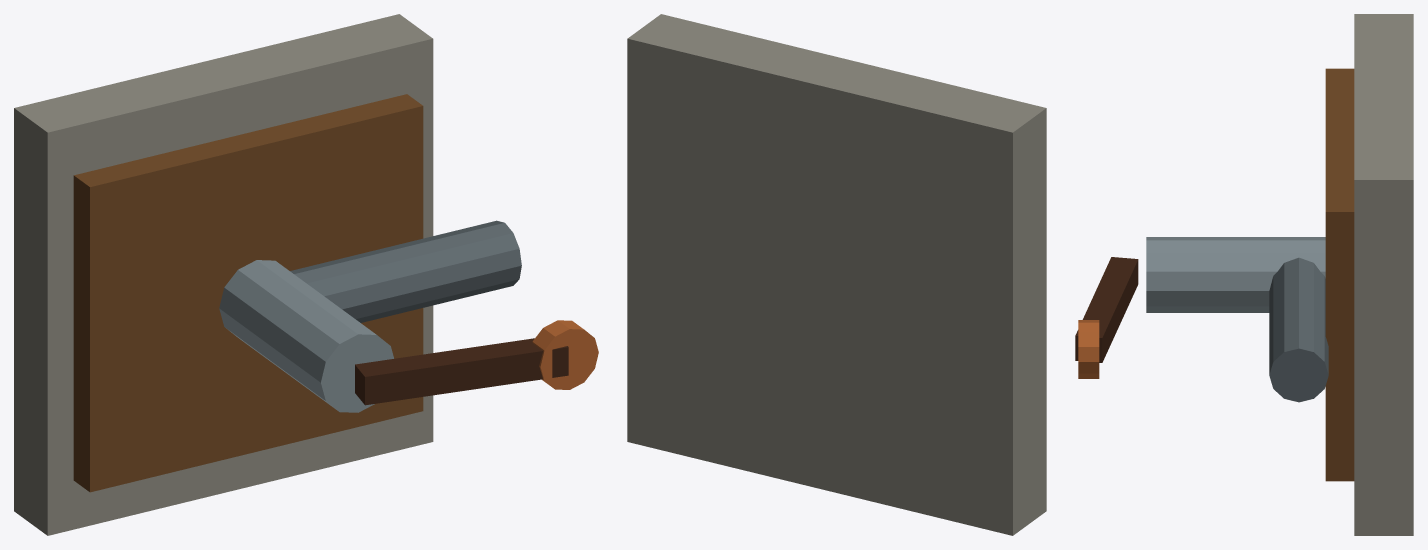
The model's file is beachpump.obj.
3 views of the same model, side by side, from view 1: azimuth 30°, elevation 25°; view 2: azimuth 150°, elevation 25°; view 3: azimuth 270°, elevation 25° (orthographic). The views are drawn at different scales.
Parts seen in each view (by area): view 1: beachpump_wood_platform, beachpump_stone_footing, beachpump_pump_column, beachpump_water_pipe, beachpump_hand_pump_lever, beachpump_valve_knob; view 2: beachpump_stone_footing; view 3: beachpump_stone_footing, beachpump_wood_platform, beachpump_pump_column, beachpump_water_pipe, beachpump_hand_pump_lever, beachpump_valve_knob.
Part boxes in pixels (x1,y1,x2,y2): beachpump_wood_platform: (73,94,423,492); beachpump_stone_footing: (14,14,433,535); beachpump_pump_column: (219,260,393,412); beachpump_water_pipe: (290,220,521,322); beachpump_hand_pump_lever: (355,338,568,405); beachpump_valve_knob: (532,320,598,389); beachpump_stone_footing: (627,14,1046,535); beachpump_stone_footing: (1354,14,1413,535); beachpump_wood_platform: (1325,68,1354,481); beachpump_pump_column: (1146,237,1325,312); beachpump_water_pipe: (1269,257,1328,402); beachpump_hand_pump_lever: (1075,257,1138,362); beachpump_valve_knob: (1078,320,1099,378).
Size of the model in its own units: 2.05 by 1.85 by 1.59.
